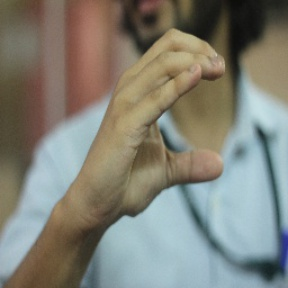C: (115, 26, 235, 200)
